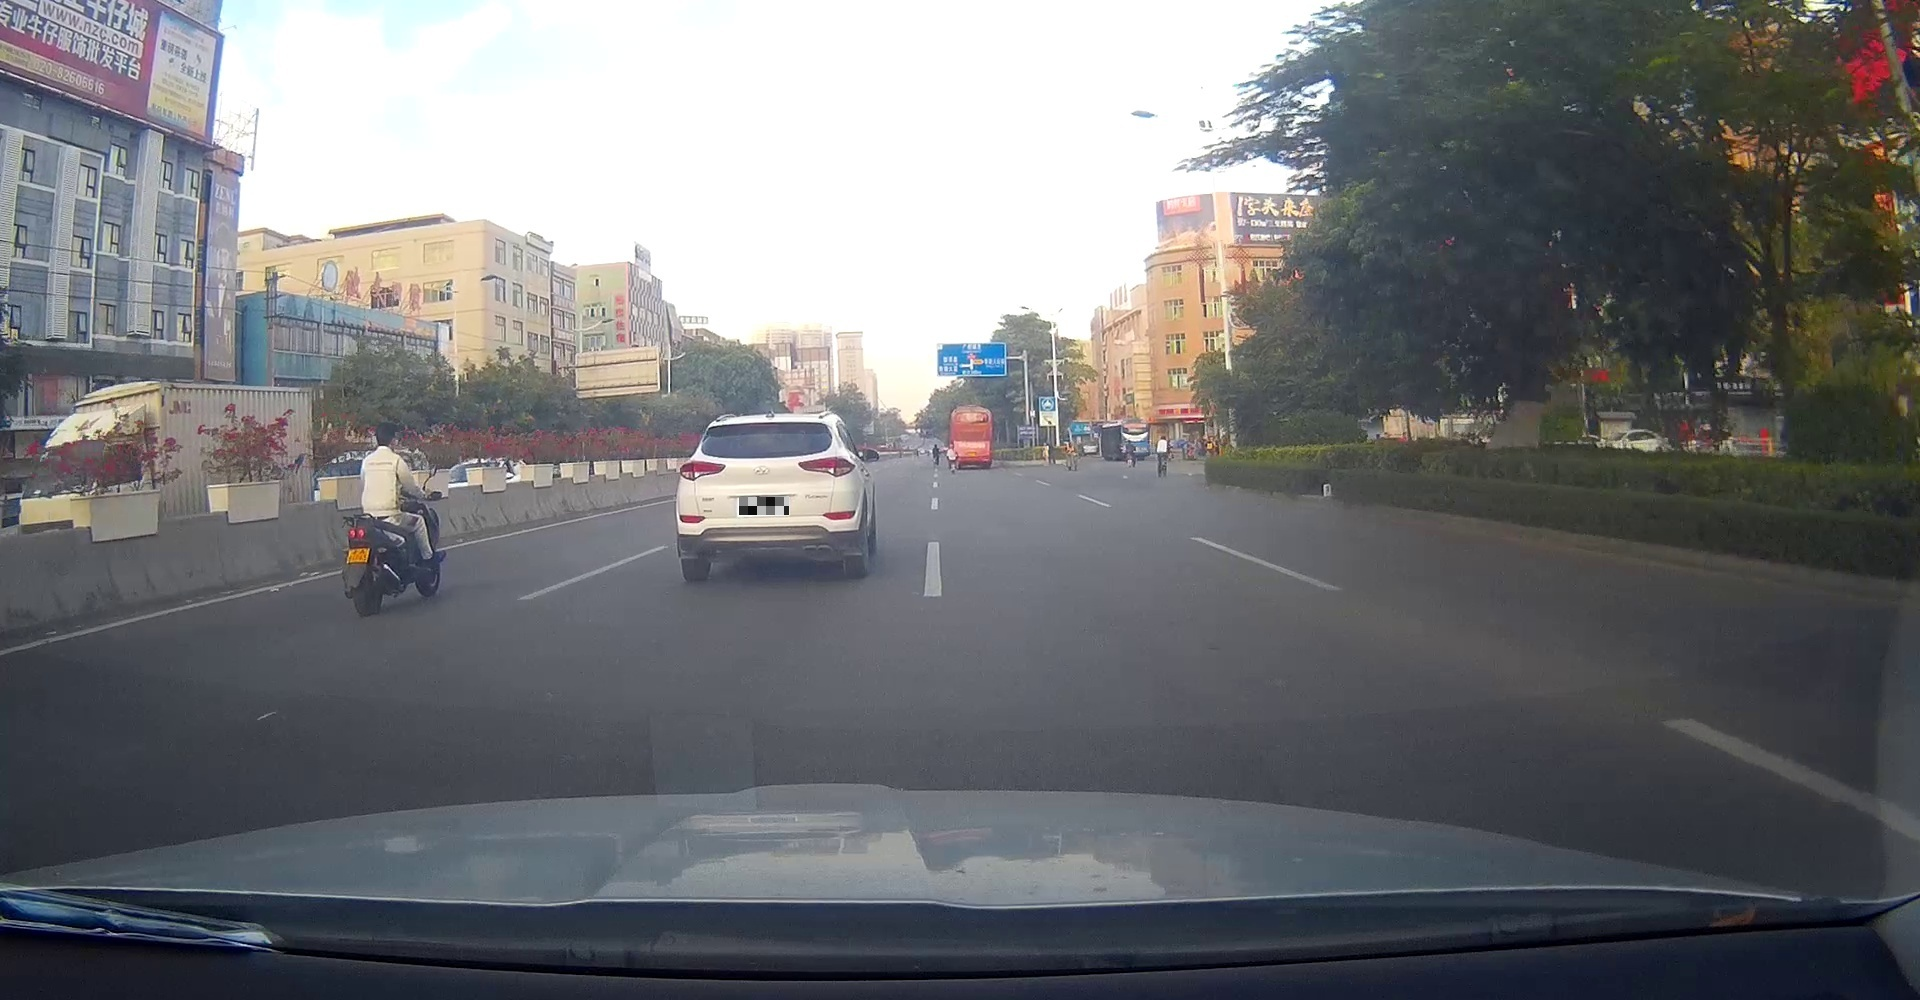L_light: (681, 459, 726, 481)
R_light: (797, 456, 856, 477)
T_light: (758, 423, 780, 426)
day-no: (676, 412, 861, 579)
plate_1: (739, 497, 789, 515)
